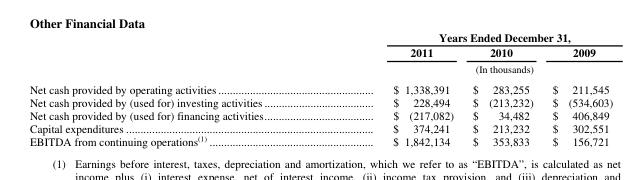table: (28, 28, 612, 148)
table column: (28, 28, 327, 148), (327, 28, 462, 148), (462, 28, 542, 148), (542, 28, 612, 148)
table column header: (28, 28, 612, 77)
table row: (28, 77, 612, 95), (28, 60, 612, 77), (28, 28, 612, 44), (28, 44, 612, 60), (28, 133, 612, 148), (28, 95, 612, 108), (28, 108, 612, 121), (28, 121, 612, 133)
table spanning cell: (327, 60, 612, 77), (327, 28, 612, 44)
